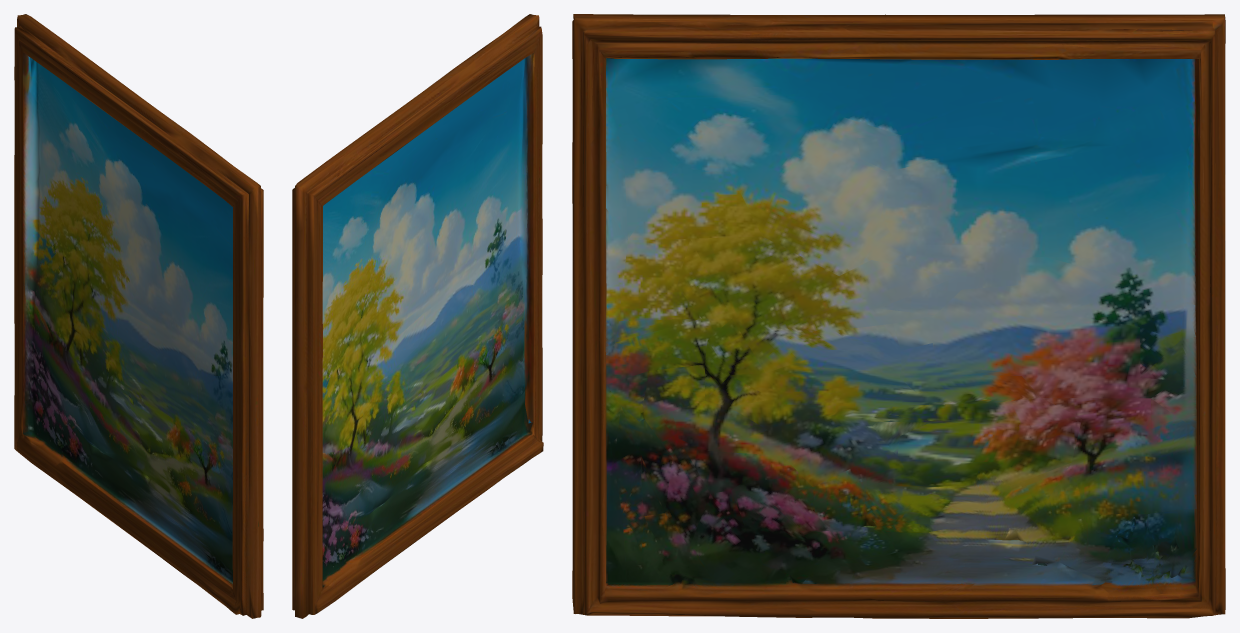
The model's file is Cuadro.fbx.
3 renders of one model, left to right at view 1: azimuth 30°, elevation 25°; view 2: azimuth 150°, elevation 25°; view 3: azimuth 270°, elevation 25°, orthographic. The views are drawn at different scales.
Parts seen in each view (by area): view 1: tripo_node_2863600c; view 2: tripo_node_2863600c; view 3: tripo_node_2863600c.
Boxes of the visible parts, left/top/right/bottom form: tripo_node_2863600c: left=14, top=14, right=263, bottom=618; tripo_node_2863600c: left=292, top=14, right=543, bottom=618; tripo_node_2863600c: left=572, top=14, right=1225, bottom=618.
Size of the model in its own units: 0.0708 by 0.9999 by 0.995.
Materials: 1 (1 with a texture image).
